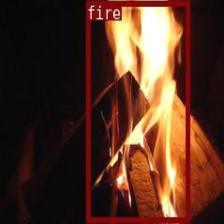fire: (86, 0, 188, 222)
